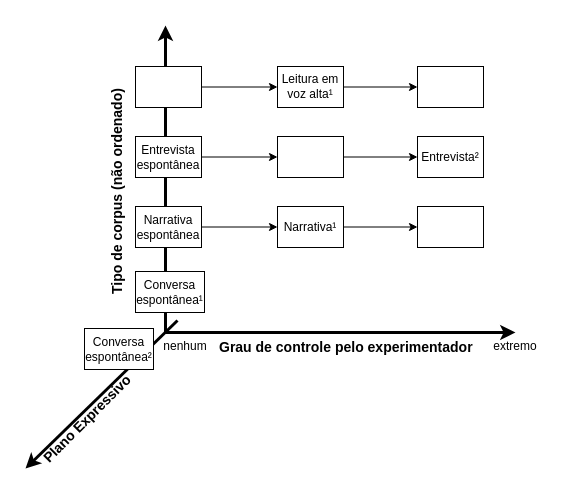
Some shapes in this 561 by 495 pixel diagram are drawn without their labels. The centre of each missing label's shape, as x and y in pixels:
"Entrevista¹" goes at (x=310, y=157).
"Leitura em voz alta espontânea" goes at (x=168, y=87).
"Leitura em voz alta²" goes at (x=450, y=87).
"Narrativa²" goes at (x=450, y=227).
